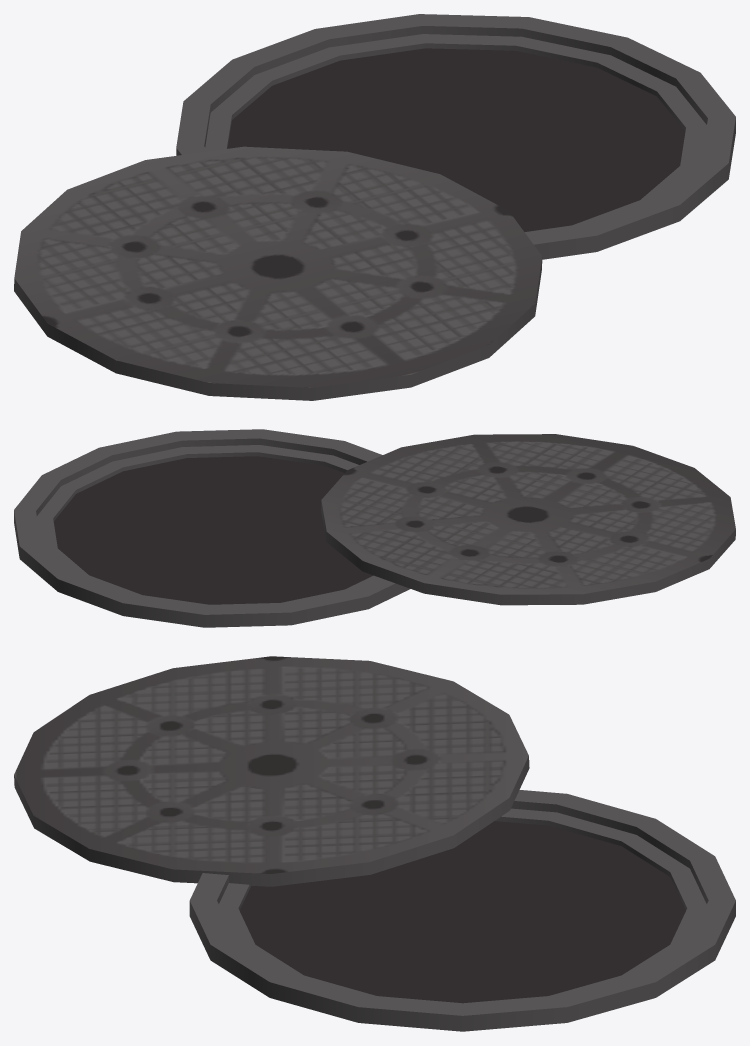
File: obj_manhole_open.fbx
The picture shows the model from 3 angles, top to bottom: view 1: azimuth 30°, elevation 25°; view 2: azimuth 150°, elevation 25°; view 3: azimuth 270°, elevation 25°; orthographic projection. The views are drawn at different scales.
Visible parts, largest first — view 1: obj_manhole_open; view 2: obj_manhole_open; view 3: obj_manhole_open.
Boxes of the visible parts, x1=… form: obj_manhole_open: x1=14, y1=14, x2=735, y2=400; obj_manhole_open: x1=14, y1=429, x2=735, y2=627; obj_manhole_open: x1=14, y1=656, x2=735, y2=1031.
Bounding box in the file's own units: 3.92 × 0.1645 × 3.37.
1 material, 1 textured.
